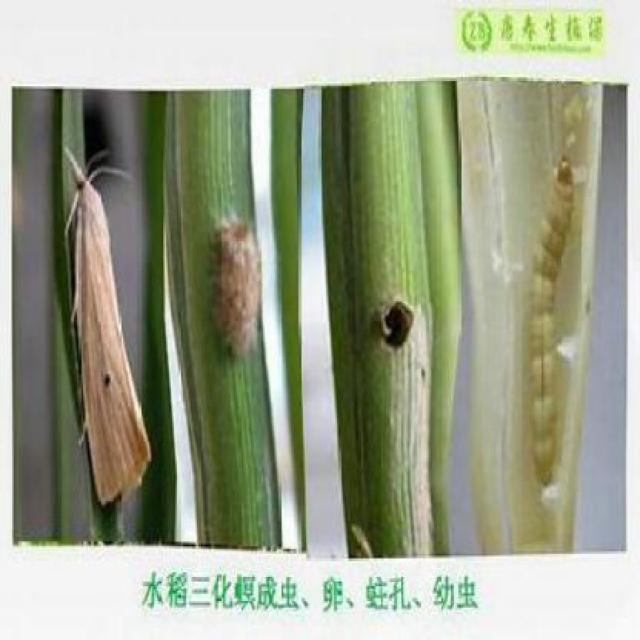stem-borer: (59, 141, 152, 508)
